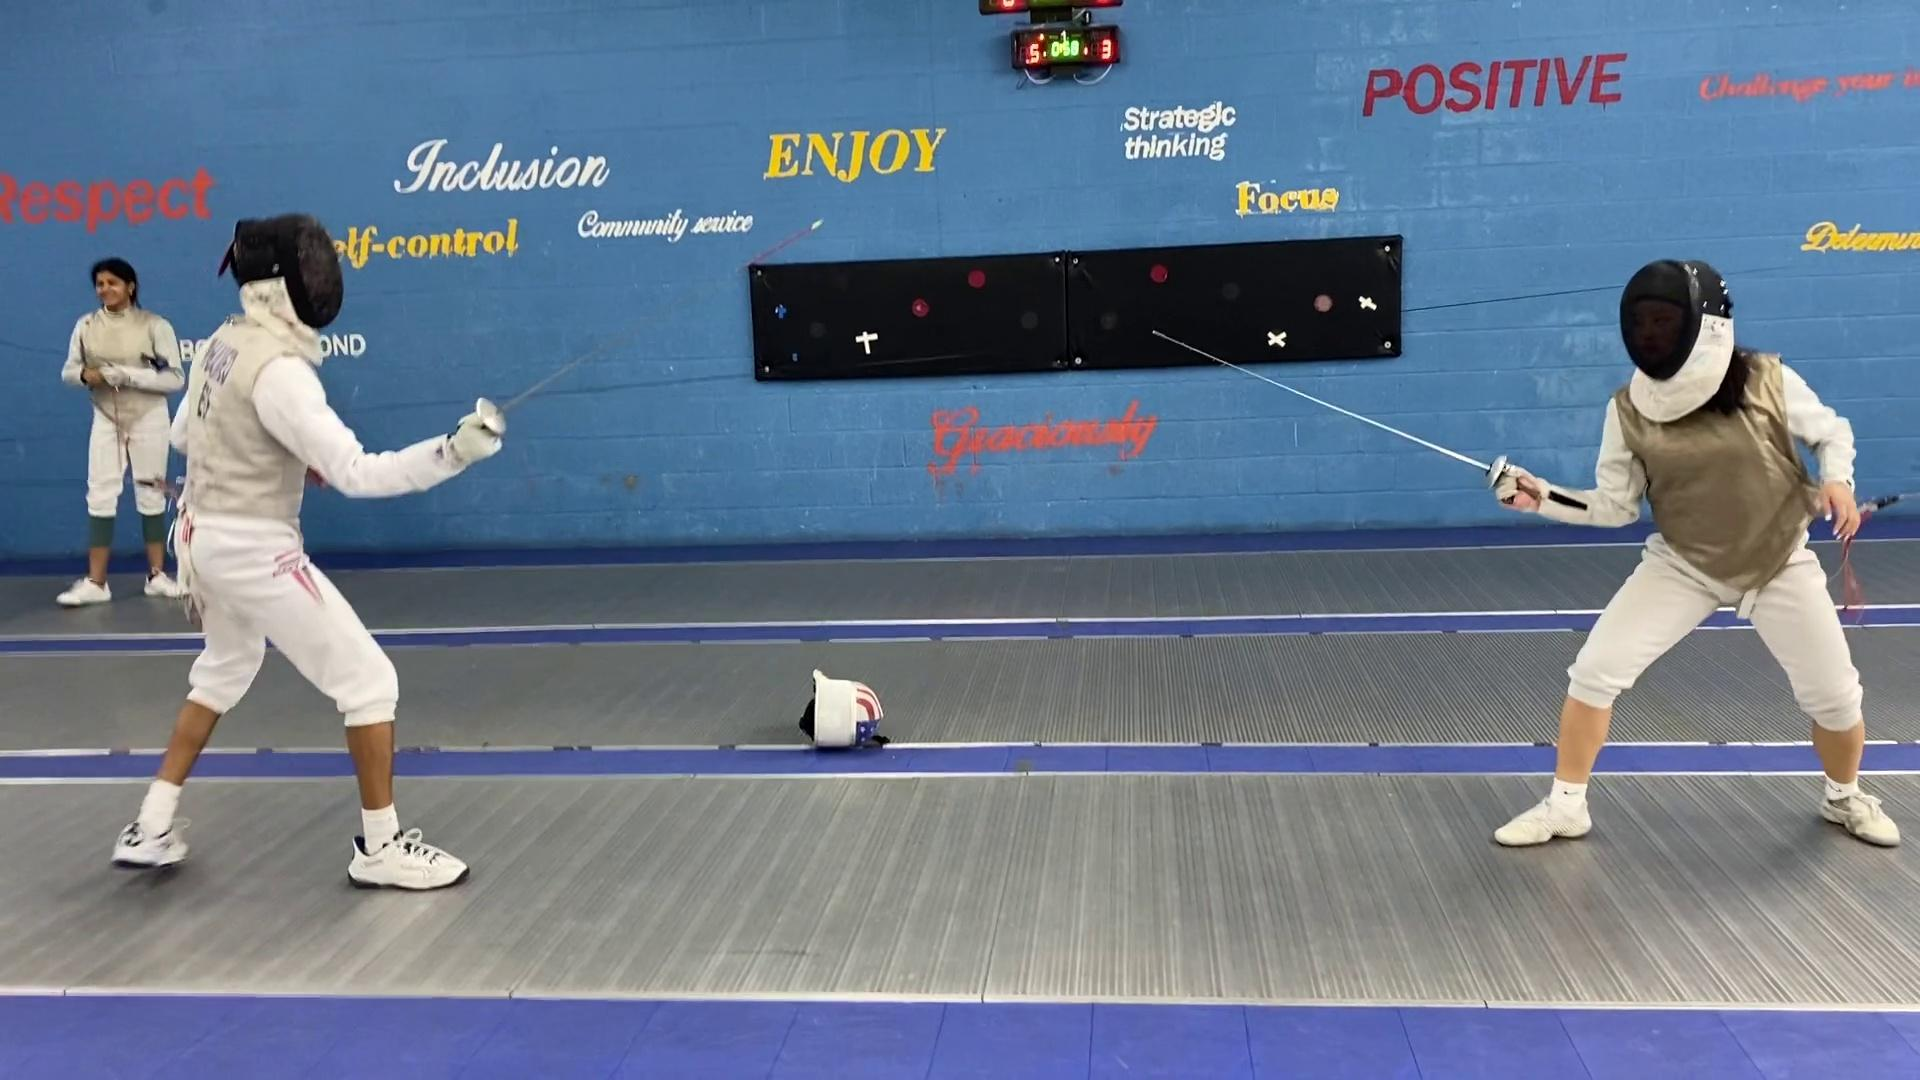blade-guard: (473, 393, 512, 440), (1478, 452, 1514, 493)
blade-tip: (732, 216, 828, 274), (1149, 324, 1232, 369)
fencing-blade: (446, 212, 840, 440), (1149, 324, 1553, 516)
